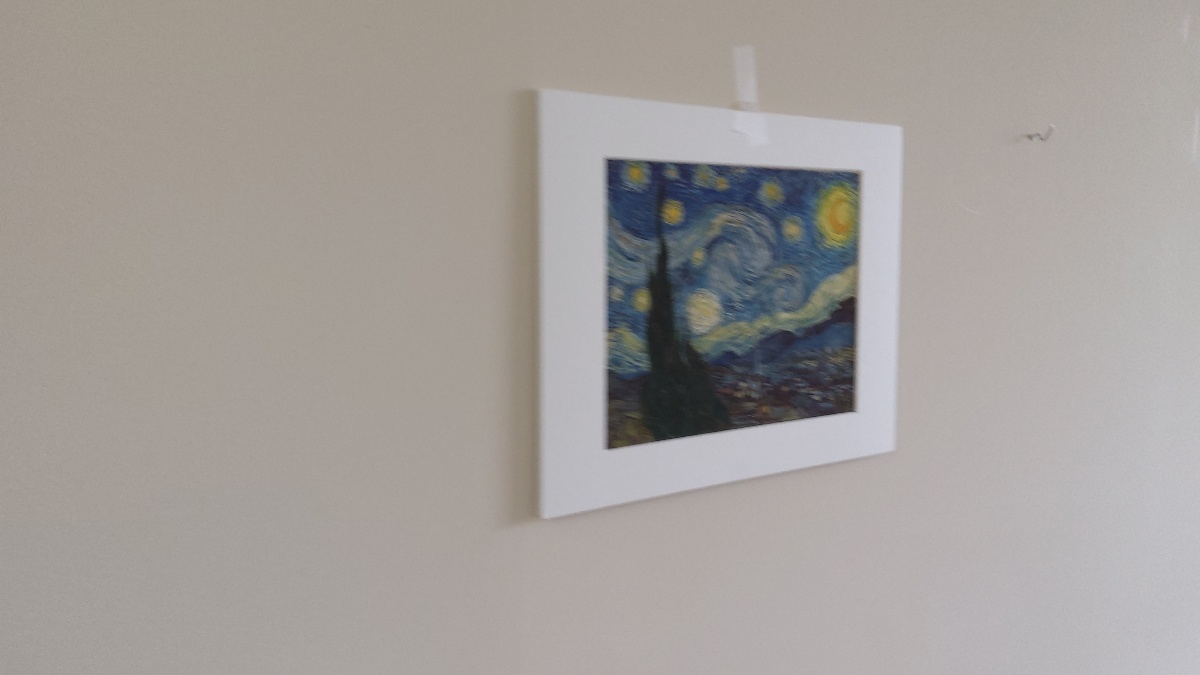painting: (593, 148, 864, 461)
